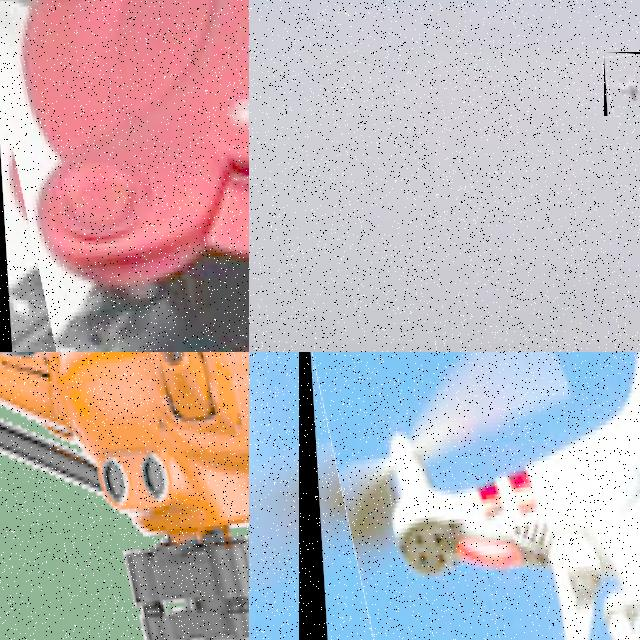drone: (299, 352, 640, 640), (0, 0, 249, 352), (0, 352, 249, 640), (604, 52, 640, 116)
